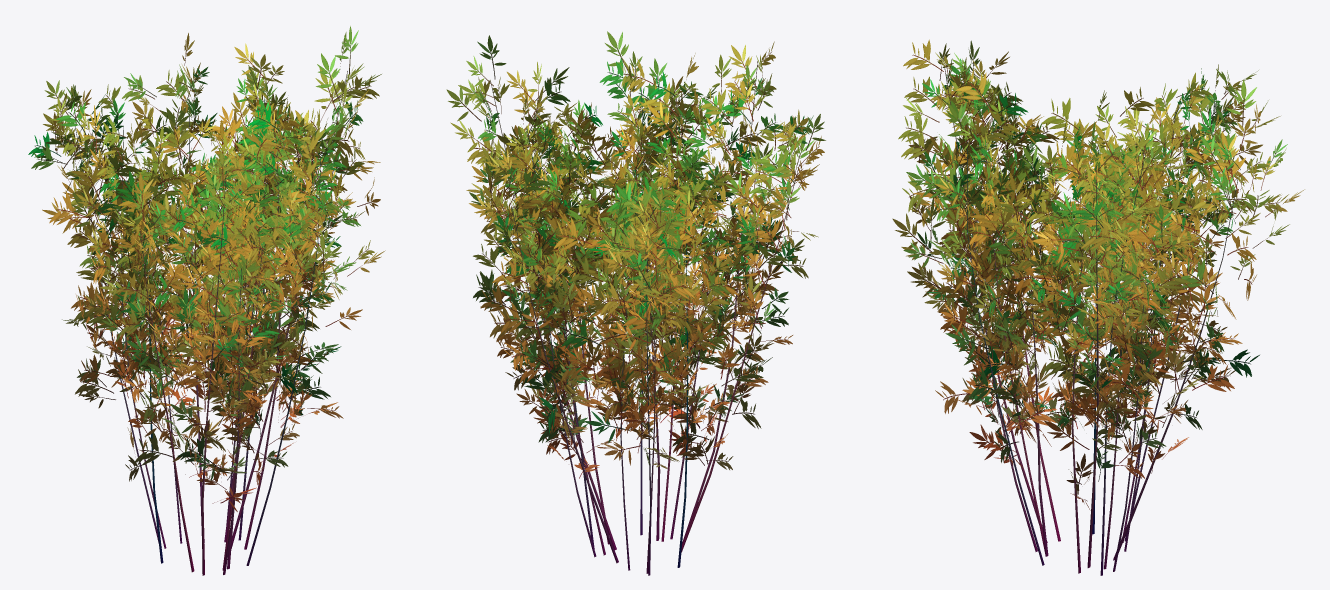
The picture shows the model from 3 angles, left to right: view 1: azimuth 30°, elevation 25°; view 2: azimuth 150°, elevation 25°; view 3: azimuth 270°, elevation 25°; orthographic projection. The views are drawn at different scales.
Visible parts, largest first — view 1: mountain_willow_LOD1; view 2: mountain_willow_LOD1; view 3: mountain_willow_LOD1.
Part boxes in pixels (left/top/right/bottom): mountain_willow_LOD1: left=28, top=26, right=385, bottom=575; mountain_willow_LOD1: left=446, top=31, right=825, bottom=575; mountain_willow_LOD1: left=892, top=39, right=1304, bottom=575.
Bounding box in the file's own units: 3.17 × 4.29 × 3.32.
Materials: 2 (2 with a texture image).
